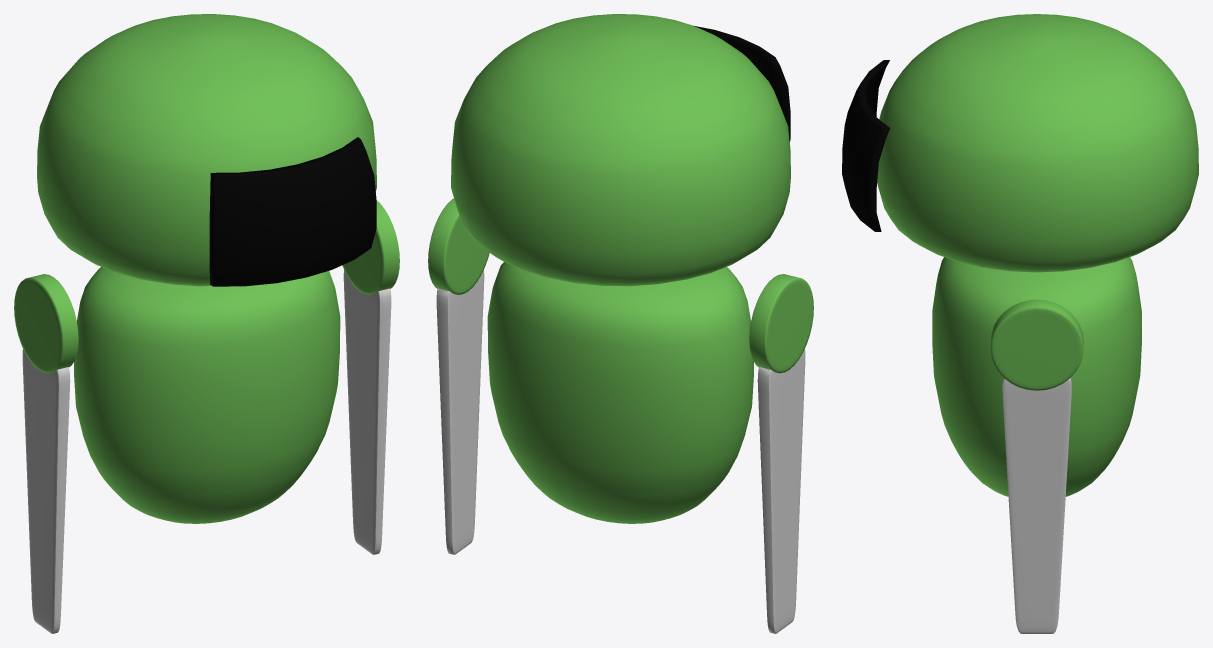
File: Robot.fbx
3 renders of one model, left to right at view 1: azimuth 30°, elevation 25°; view 2: azimuth 150°, elevation 25°; view 3: azimuth 270°, elevation 25°, orthographic. The views are drawn at different scales.
Parts seen in each view (by area): view 1: Head, Robot, Eye, Arm.R, Arm.L, Shoulder.R, Shoulder.L; view 2: Head, Robot, Arm.R, Arm.L, Shoulder.R, Shoulder.L, Eye; view 3: Head, Robot, Arm.L, Shoulder.L, Eye.
Part boxes in pixels (<box>): Head: <box>37,14,376,286</box>; Robot: <box>74,267,340,523</box>; Eye: <box>209,137,376,286</box>; Arm.R: <box>22,349,70,633</box>; Arm.L: <box>343,270,391,554</box>; Shoulder.R: <box>14,274,78,373</box>; Shoulder.L: <box>342,200,399,294</box>; Head: <box>451,14,790,286</box>; Robot: <box>487,262,753,523</box>; Arm.R: <box>757,349,805,633</box>; Arm.L: <box>436,270,484,554</box>; Shoulder.R: <box>749,274,813,373</box>; Shoulder.L: <box>428,198,489,294</box>; Eye: <box>693,25,790,142</box>; Head: <box>877,14,1198,272</box>; Robot: <box>932,257,1141,496</box>; Arm.L: <box>1002,377,1071,633</box>; Shoulder.L: <box>990,299,1083,390</box>; Eye: <box>842,60,889,231</box>.
Bounding box in the file's own units: 260 × 405 × 251.
